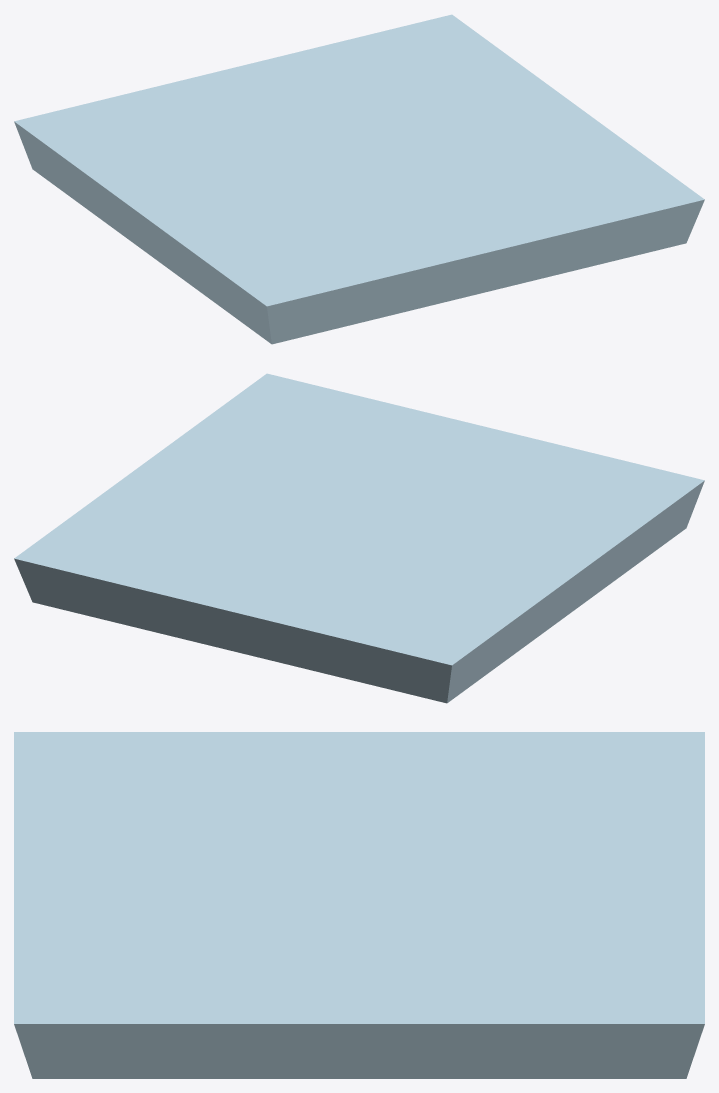
The picture shows the model from 3 angles, top to bottom: view 1: azimuth 30°, elevation 25°; view 2: azimuth 150°, elevation 25°; view 3: azimuth 270°, elevation 25°; orthographic projection. The views are drawn at different scales.
Visible parts, largest first — view 1: 9; view 2: 9; view 3: 9.
Boxes of the visible parts, x1=… form: 9: x1=14, y1=14, x2=704, y2=344; 9: x1=14, y1=373, x2=704, y2=703; 9: x1=14, y1=732, x2=704, y2=1078.
Bounding box in the file's own units: 0.5 × 0.05 × 0.5.
